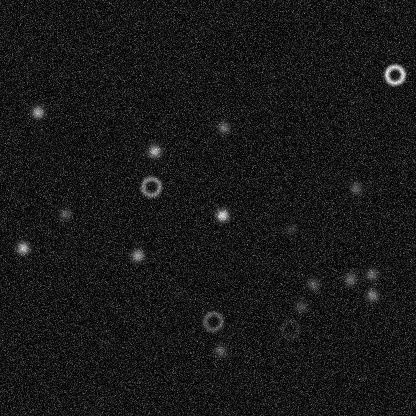Ring: (200, 309, 224, 333), (278, 317, 302, 341), (382, 62, 406, 86), (139, 174, 163, 198)
Spot: (214, 207, 230, 223), (363, 266, 379, 282), (57, 205, 73, 221), (364, 287, 380, 303), (29, 104, 45, 120), (292, 298, 308, 314), (129, 247, 145, 263), (14, 239, 30, 255), (282, 221, 298, 237), (347, 179, 363, 195), (212, 342, 228, 358), (215, 119, 231, 135), (305, 276, 321, 292), (342, 271, 358, 287), (146, 142, 162, 158)
